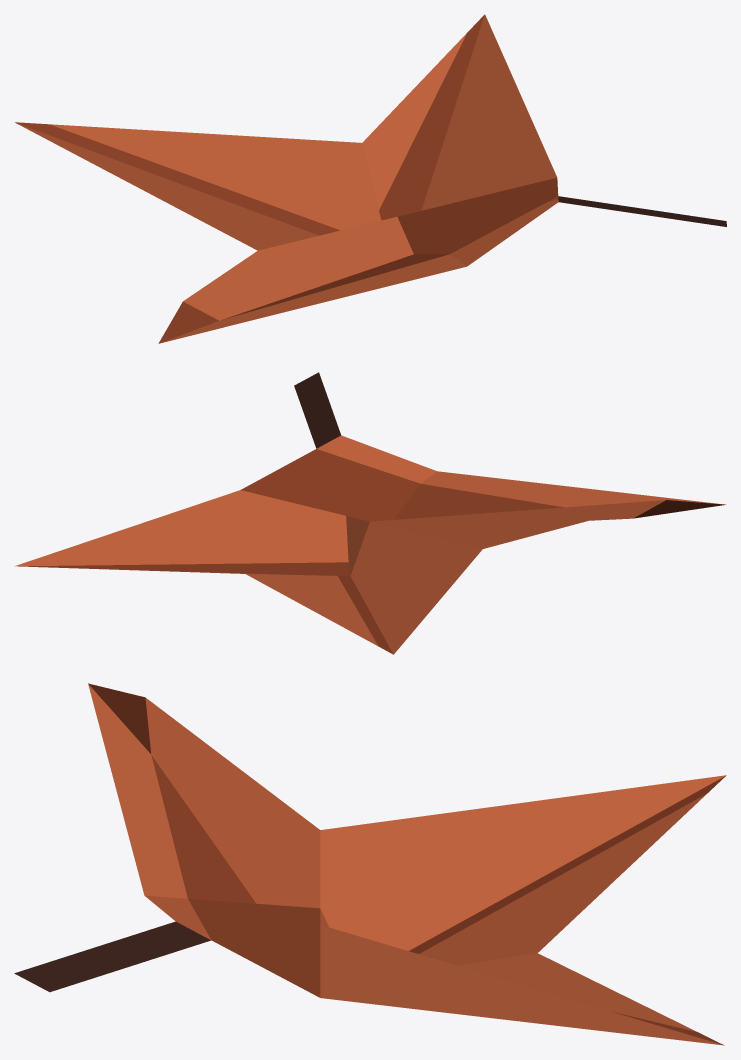
File: FOLHA2.fbx
3 views of the same model, one above another, from view 1: azimuth 30°, elevation 25°; view 2: azimuth 150°, elevation 25°; view 3: azimuth 270°, elevation 25° (orthographic). The views are drawn at different scales.
Visible parts, largest first — view 1: Plane; view 2: Plane; view 3: Plane.
Boxes of the visible parts, bbox=[...] form: Plane: bbox=[15, 14, 726, 343]; Plane: bbox=[15, 372, 725, 654]; Plane: bbox=[14, 683, 726, 1045].
Bounding box in the file's own units: 38.21 × 6.09 × 34.01.
